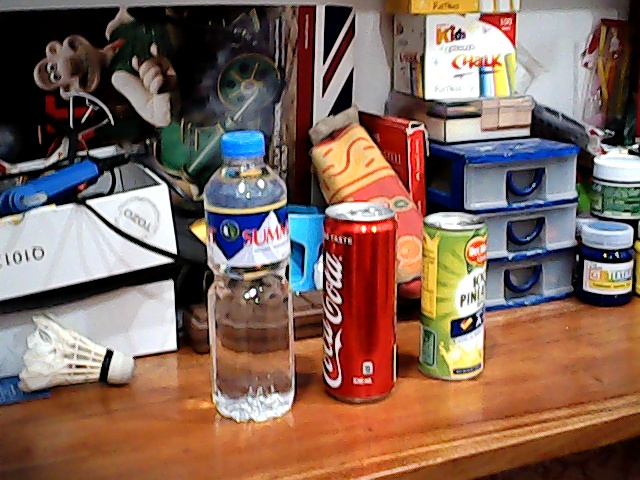Cola: (316, 198, 403, 410)
Pine Juice: (411, 202, 498, 387)
Summit Water: (188, 121, 306, 426)
